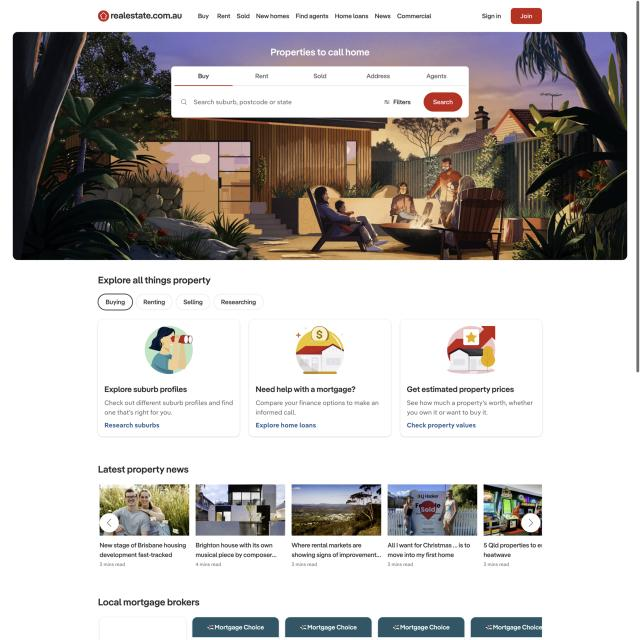CheckBox: (423, 91, 462, 112), (406, 420, 478, 430), (254, 420, 316, 430), (102, 421, 163, 430), (511, 8, 543, 24), (382, 97, 412, 107)
Input field: (405, 397, 534, 417), (255, 399, 380, 417), (104, 399, 234, 416), (387, 541, 472, 560), (291, 542, 382, 558), (195, 542, 278, 559), (99, 542, 187, 558)
RadioButton: (291, 561, 318, 568), (100, 562, 127, 568), (483, 562, 510, 568), (388, 562, 414, 568), (195, 562, 222, 567)
Spinner: (97, 318, 240, 438), (248, 319, 391, 438), (400, 318, 543, 437)
Switch: (99, 483, 543, 573)
bag: (2, 0, 636, 32)
breadcrumbs: (97, 272, 213, 288), (97, 596, 200, 609), (405, 384, 515, 395), (97, 464, 190, 475), (255, 384, 356, 394), (104, 384, 187, 394)
card: (13, 31, 628, 260)
carousel: (180, 98, 189, 107), (106, 518, 113, 527), (528, 517, 534, 527)
content: (292, 325, 346, 375), (143, 324, 194, 374), (445, 325, 496, 374)
copy: (387, 484, 478, 536), (291, 484, 381, 536), (196, 484, 285, 535)
data feed: (220, 298, 256, 307), (480, 10, 503, 22), (432, 96, 454, 106), (142, 297, 166, 306), (183, 298, 204, 307), (393, 98, 412, 107), (105, 298, 125, 306), (519, 13, 534, 20)
date picker: (97, 9, 183, 23)
decoration: (196, 11, 433, 21), (100, 513, 119, 533), (522, 513, 540, 532)
footer: (192, 98, 294, 106)
icon: (98, 616, 544, 638), (171, 66, 467, 87)
illustration: (213, 294, 264, 310), (136, 293, 173, 311), (98, 293, 133, 312), (175, 294, 211, 310)
image: (269, 47, 373, 60)
